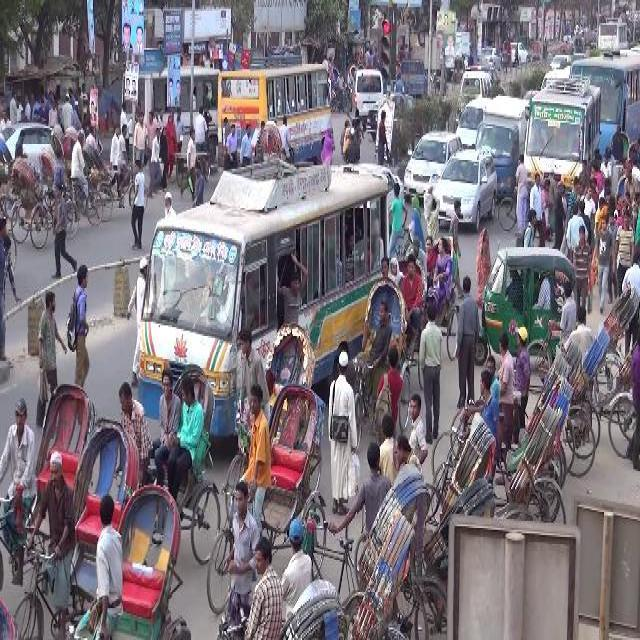Bus: (129, 156, 412, 443)
